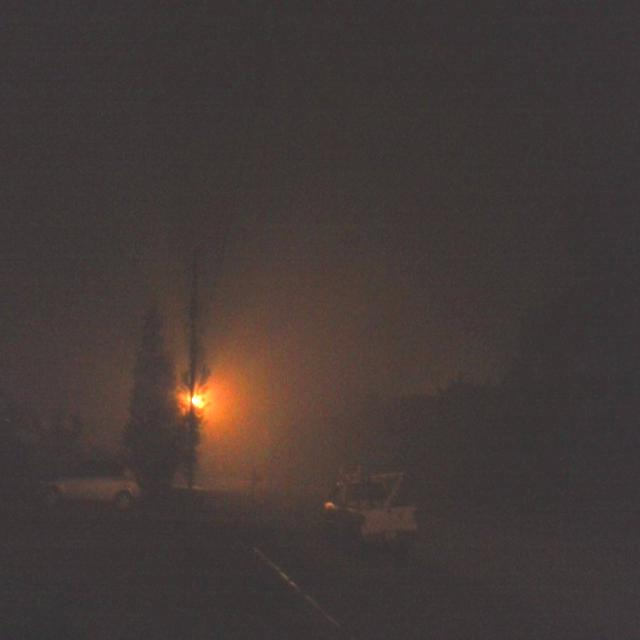Car: (318, 466, 423, 554), (38, 450, 162, 516)
